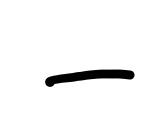minus: (43, 67, 134, 86)
